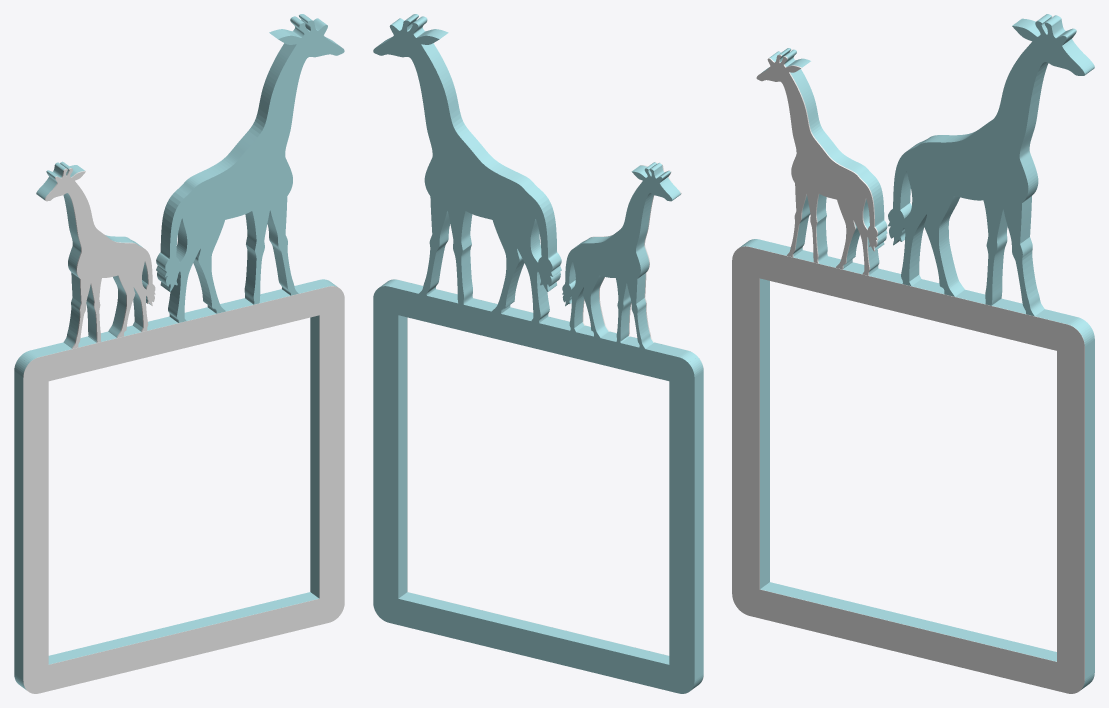
Rendered from gir.obj.
3 renders of one model, left to right at view 1: azimuth 30°, elevation 25°; view 2: azimuth 150°, elevation 25°; view 3: azimuth 330°, elevation 25°, orthographic. The views are drawn at different scales.
Visible parts, largest first — view 1: group_0_16448250, group_0_11593967; view 2: group_0_11593967, group_0_16448250; view 3: group_0_16448250, group_0_11593967.
Part boxes in pixels (left/top/right/bottom): group_0_16448250: left=23, top=168, right=344, bottom=693; group_0_11593967: left=14, top=14, right=344, bottom=690; group_0_11593967: left=373, top=14, right=703, bottom=693; group_0_16448250: left=393, top=162, right=703, bottom=680; group_0_16448250: left=732, top=54, right=1084, bottom=693; group_0_11593967: left=739, top=14, right=1094, bottom=690.
Size of the model in its own units: 102 by 184 by 5.1.
